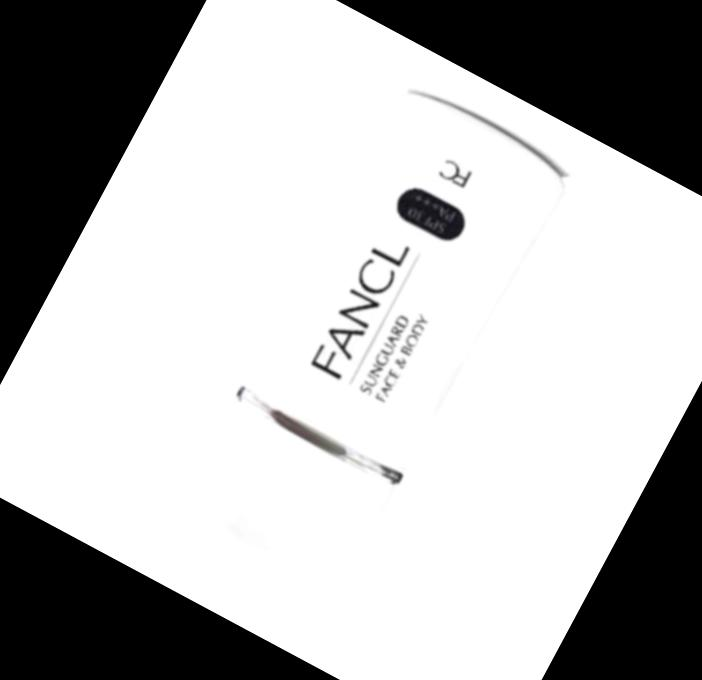cosmetic: (167, 72, 578, 594)
